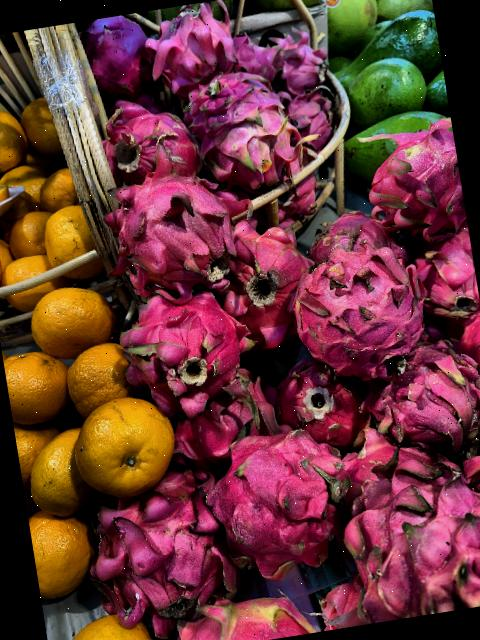buah-naga-matang: (326, 441, 480, 626), (280, 243, 456, 393), (79, 478, 244, 630), (203, 416, 359, 576), (85, 157, 248, 300), (105, 274, 250, 410), (358, 114, 470, 256), (187, 72, 314, 186), (214, 210, 316, 347), (364, 347, 480, 456), (97, 98, 208, 190), (158, 379, 280, 462), (133, 3, 242, 87)
